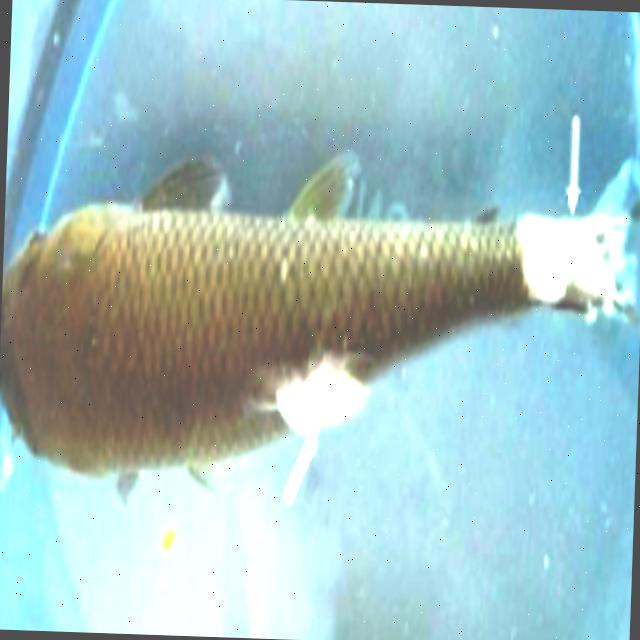Fungal Disease -Saprolegniasis-: (0, 149, 624, 471), (0, 153, 527, 467), (461, 144, 640, 323), (276, 355, 360, 433), (288, 157, 352, 220)
